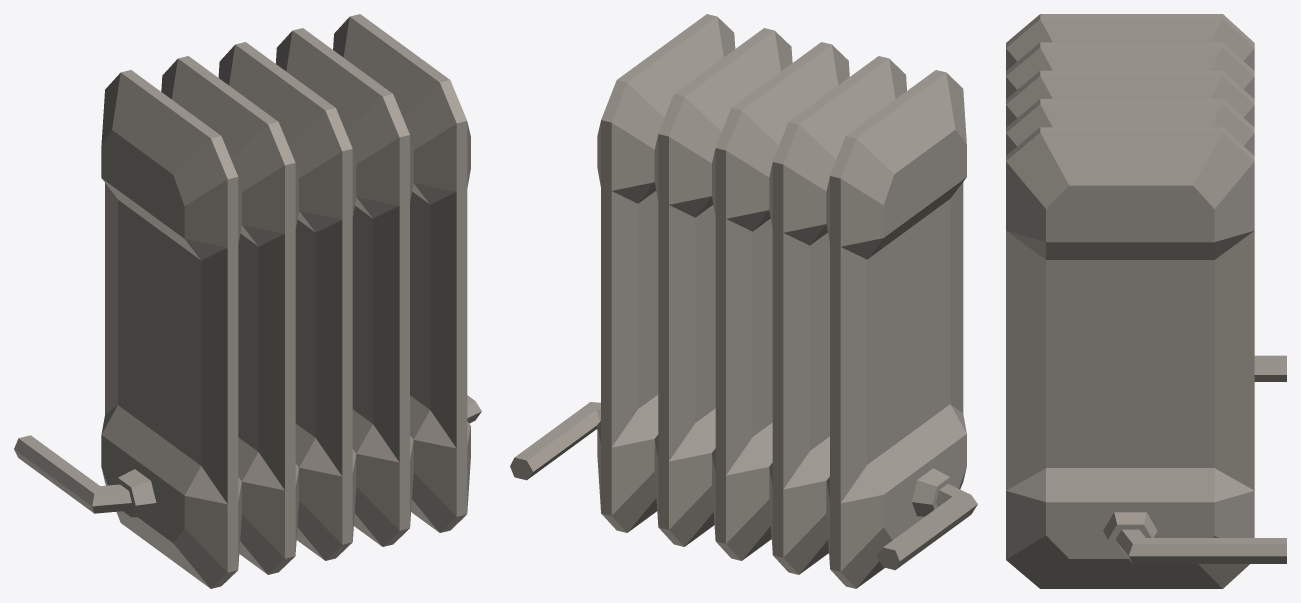
Rendered from SM_Prop_Heater_01.fbx.
The picture shows the model from 3 angles, left to right: view 1: azimuth 30°, elevation 25°; view 2: azimuth 150°, elevation 25°; view 3: azimuth 270°, elevation 25°; orthographic projection.
Visible parts, largest first — view 1: SM_Prop_Heater_01; view 2: SM_Prop_Heater_01; view 3: SM_Prop_Heater_01.
Part boxes in pixels (x1,y1,x2,y2): SM_Prop_Heater_01: [14, 14, 481, 588]; SM_Prop_Heater_01: [510, 14, 977, 588]; SM_Prop_Heater_01: [1006, 14, 1286, 588].
Size of the model in its own units: 63.39 by 70.01 by 39.05.
